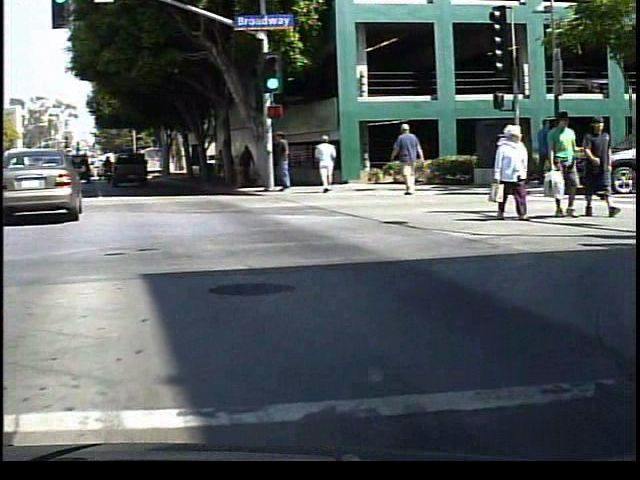person: (492, 124, 544, 224), (549, 111, 586, 220), (585, 113, 622, 218), (394, 123, 432, 196), (537, 113, 563, 188), (280, 128, 305, 200), (317, 133, 344, 196), (243, 140, 264, 190), (228, 146, 243, 189)
